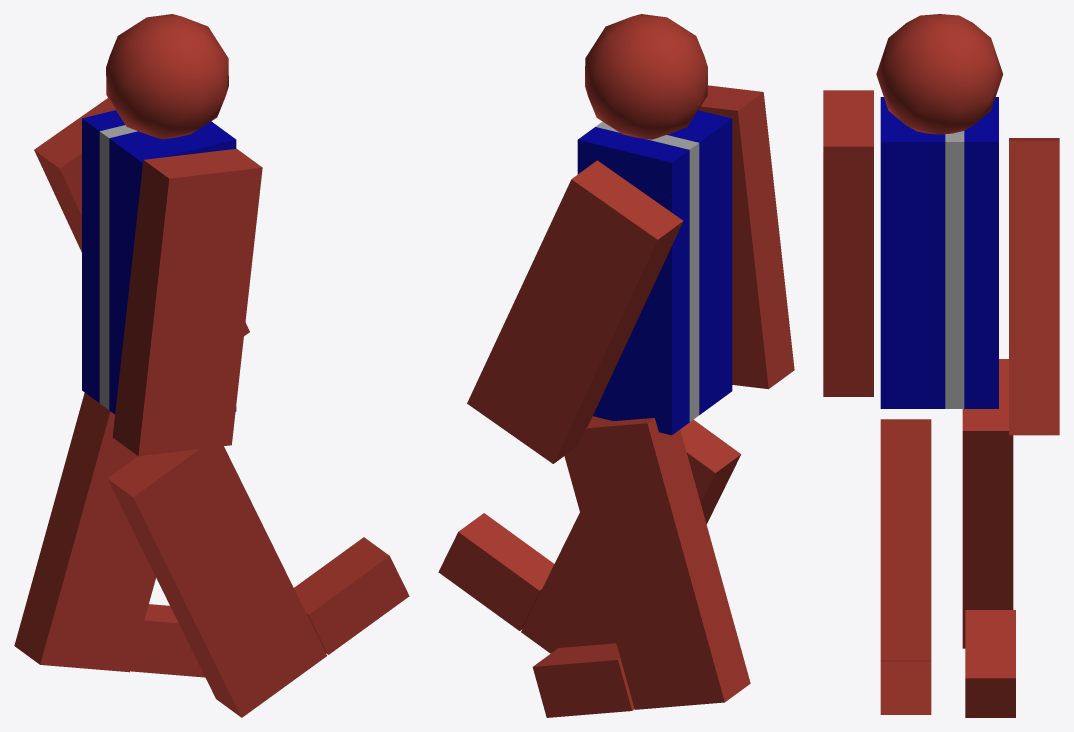
The model's file is player_000014.obj.
3 views of the same model, side by side, from view 1: azimuth 30°, elevation 25°; view 2: azimuth 150°, elevation 25°; view 3: azimuth 270°, elevation 25° (orthographic). The views are drawn at different scales.
Parts seen in each view (by area): view 1: Cube.005, Cube.001, Cube.002, Cube, Icosphere, Cube.003, Cube.006, Cube.004; view 2: Cube.002, Cube.006, Cube, Cube.005, Icosphere, Cube.001, Cube.003, Cube.004; view 3: Cube, Cube.005, Cube.006, Cube.001, Icosphere, Cube.002, Cube.004, Cube.003.
Boxes of the visible parts, x1,y1,x2,y2 form: Cube.005: (112, 148, 262, 456); Cube.001: (107, 446, 326, 717); Cube.002: (14, 393, 155, 672); Cube: (82, 110, 236, 414); Icosphere: (106, 14, 228, 139); Cube.003: (294, 537, 409, 654); Cube.006: (34, 98, 249, 335); Cube.004: (130, 604, 205, 677); Cube.002: (564, 416, 750, 709); Cube.006: (467, 160, 683, 463); Cube: (577, 110, 732, 435); Cube.005: (698, 85, 794, 389); Icosphere: (585, 14, 707, 139); Cube.001: (521, 419, 741, 653); Cube.003: (438, 513, 554, 630); Cube.004: (532, 643, 634, 717); Cube: (880, 97, 998, 408); Cube.005: (823, 90, 873, 396); Cube.006: (1009, 138, 1059, 435); Cube.001: (880, 419, 931, 660); Icosphere: (876, 14, 1003, 134); Cube.002: (962, 359, 1013, 648); Cube.004: (965, 610, 1015, 717); Cube.003: (880, 660, 931, 714).
Size of the model in its own units: 1.43 by 2.87 by 0.9137.
